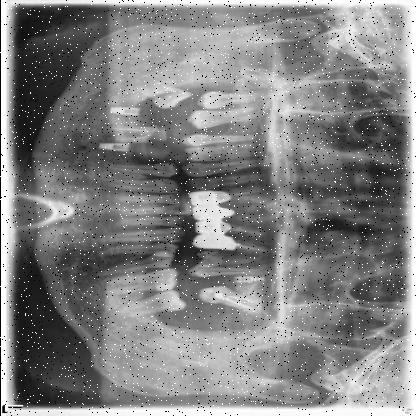Bicon: (102, 105, 143, 117), (95, 142, 130, 155)
